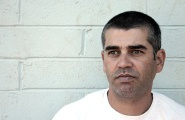male: (101, 20, 164, 100)
